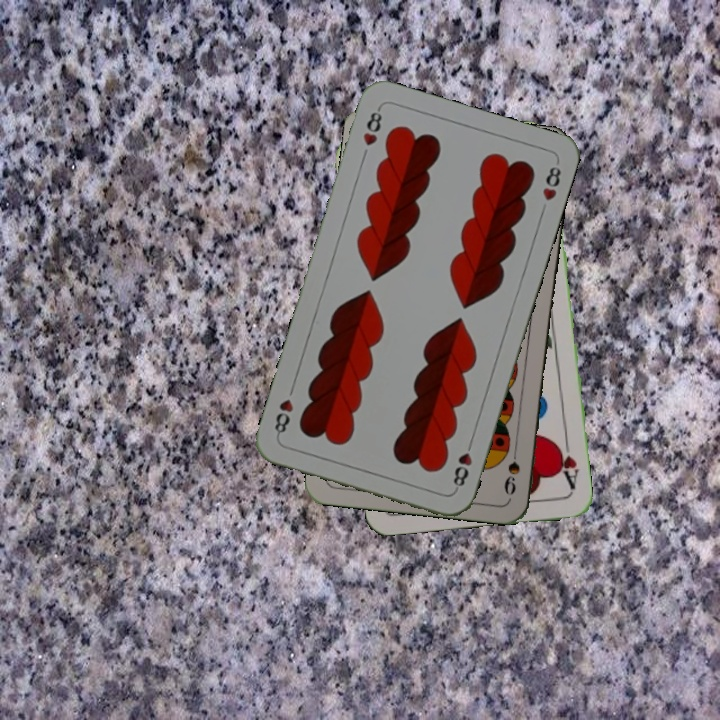H8: (449, 435, 476, 493), (359, 103, 385, 149)
HA: (552, 433, 582, 492)
S9: (500, 439, 523, 498)
